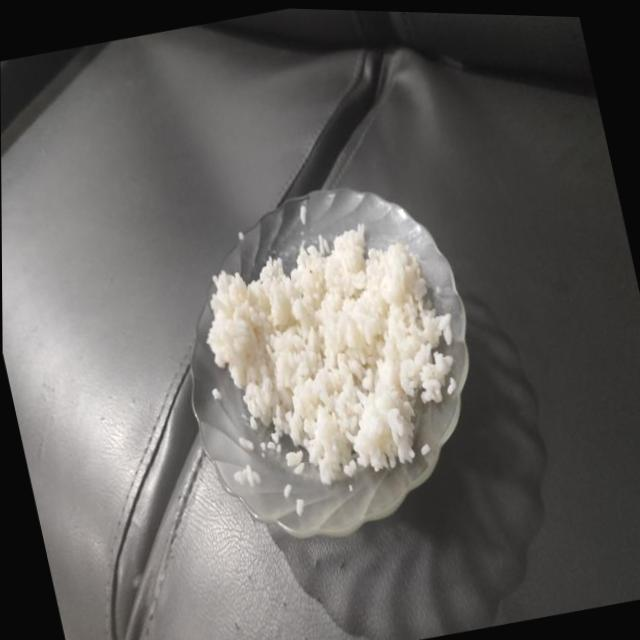nasi_putih: (208, 230, 456, 483)
